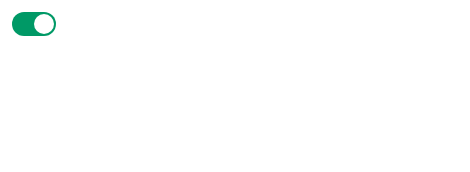
Test case: EditionFlagSwitch(reader_full_text) › unauthorizedShowsTheSignInAgainMessage
This screenshot has width=470, height=172.
What coordinates should you click on to do the following:
click the switch named "Full text for NABRE"
I would click on:
 (34, 24)
Its box is [12,12,56,36].
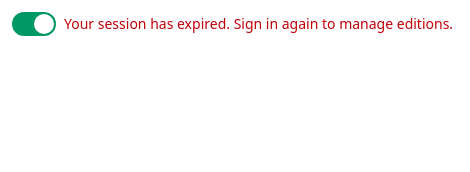
Result: the message reads "Your session has expired. Sign in again to manage editions." at [64,14,453,33]
